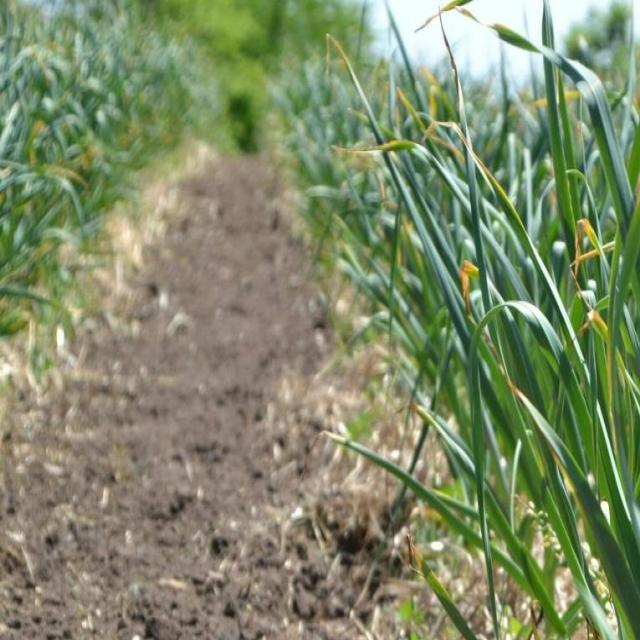row: (0, 148, 455, 637)
